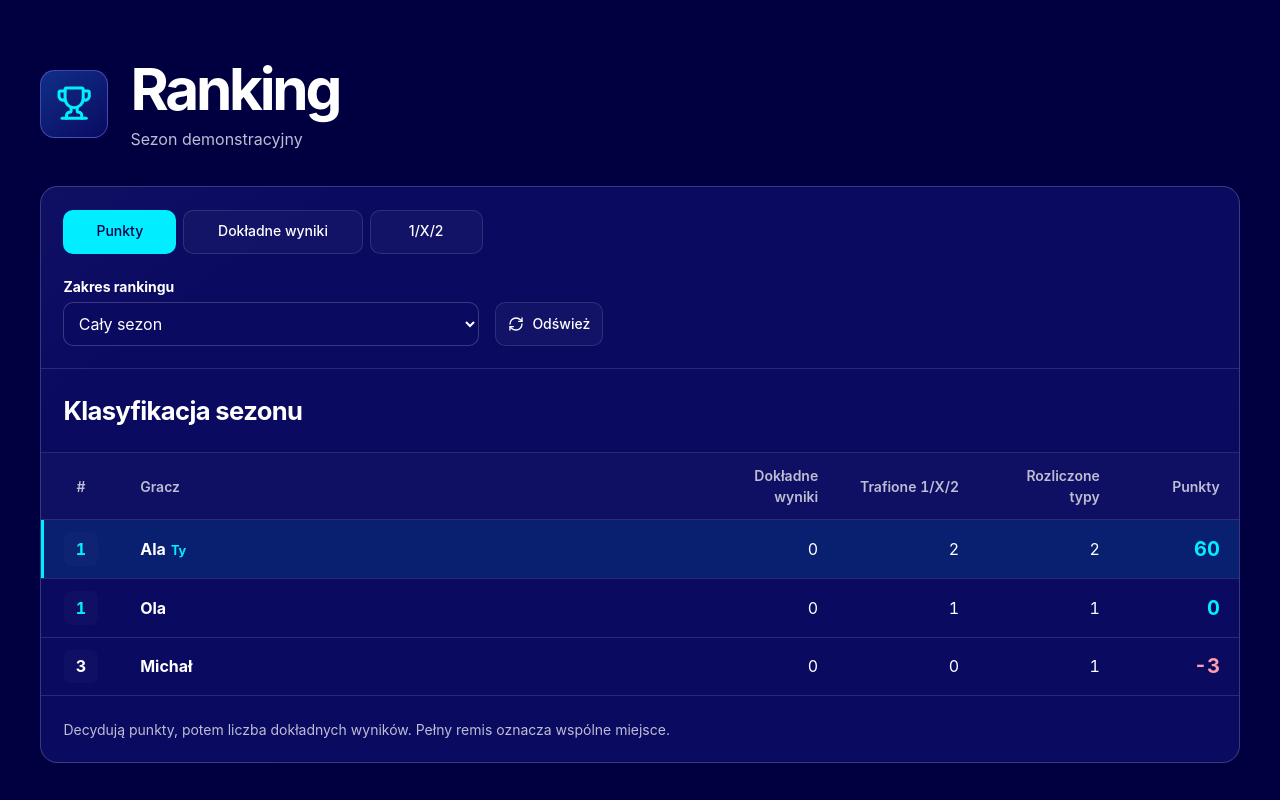
Test case: removes personal results and shows the sign-in link if the session expires on refresh
Expected: the table is shown, [41,452,1239,695]
What coordinates should you click on to do the following:
click the button "Odśwież"
I would click on:
 (549, 324)
Its box is [495,302,603,346].
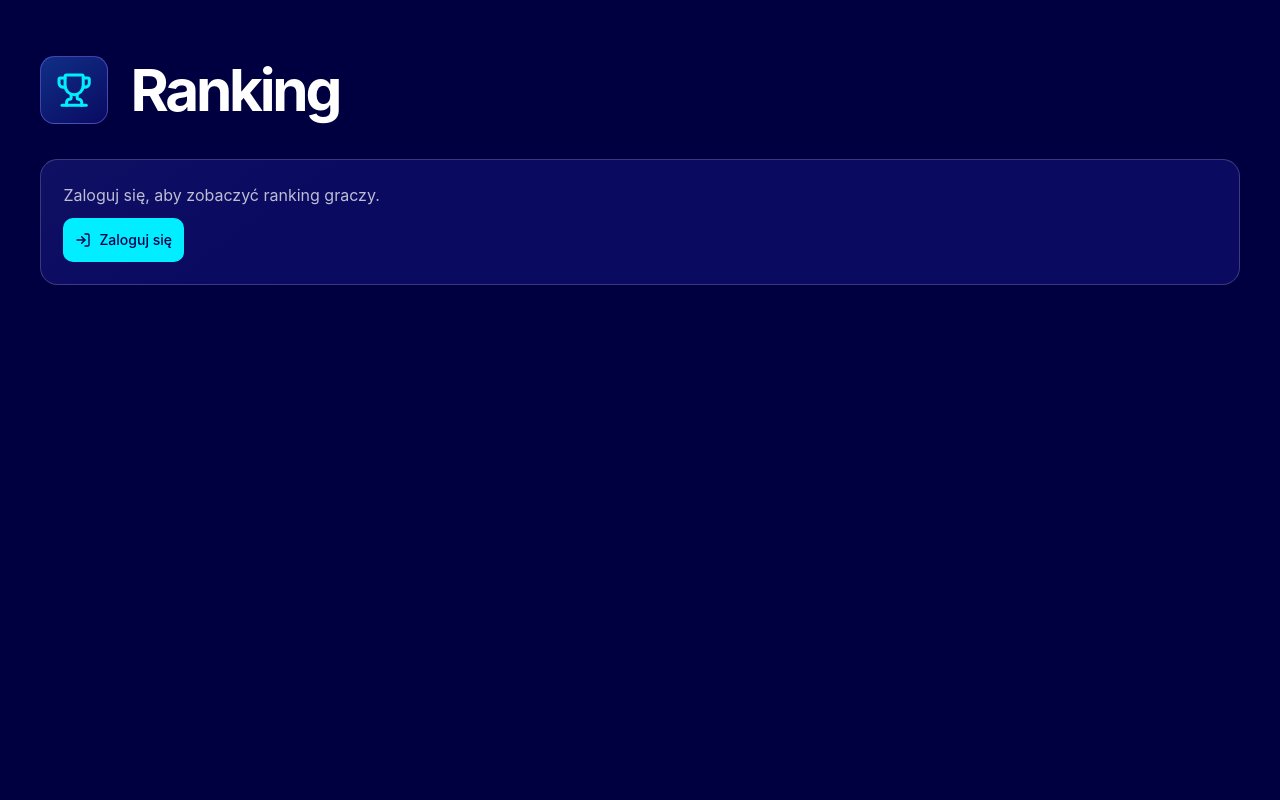
Expected: the table is gone
Expected: the text "Ala" is gone
